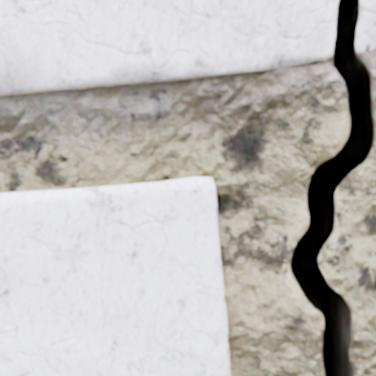brick: (0, 177, 230, 375)
broken_brick: (0, 0, 335, 96), (357, 0, 375, 53)
crack: (290, 0, 374, 375)
